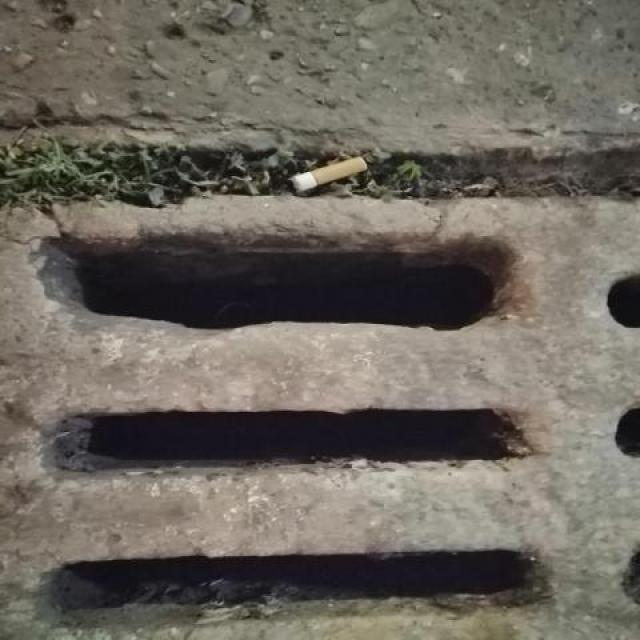non-organic waste: (288, 150, 376, 198)
